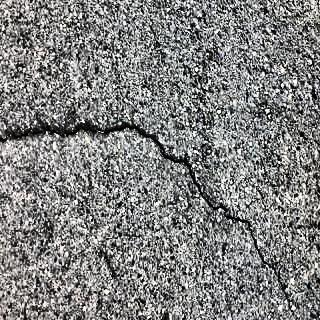crack: (1, 109, 300, 312)
